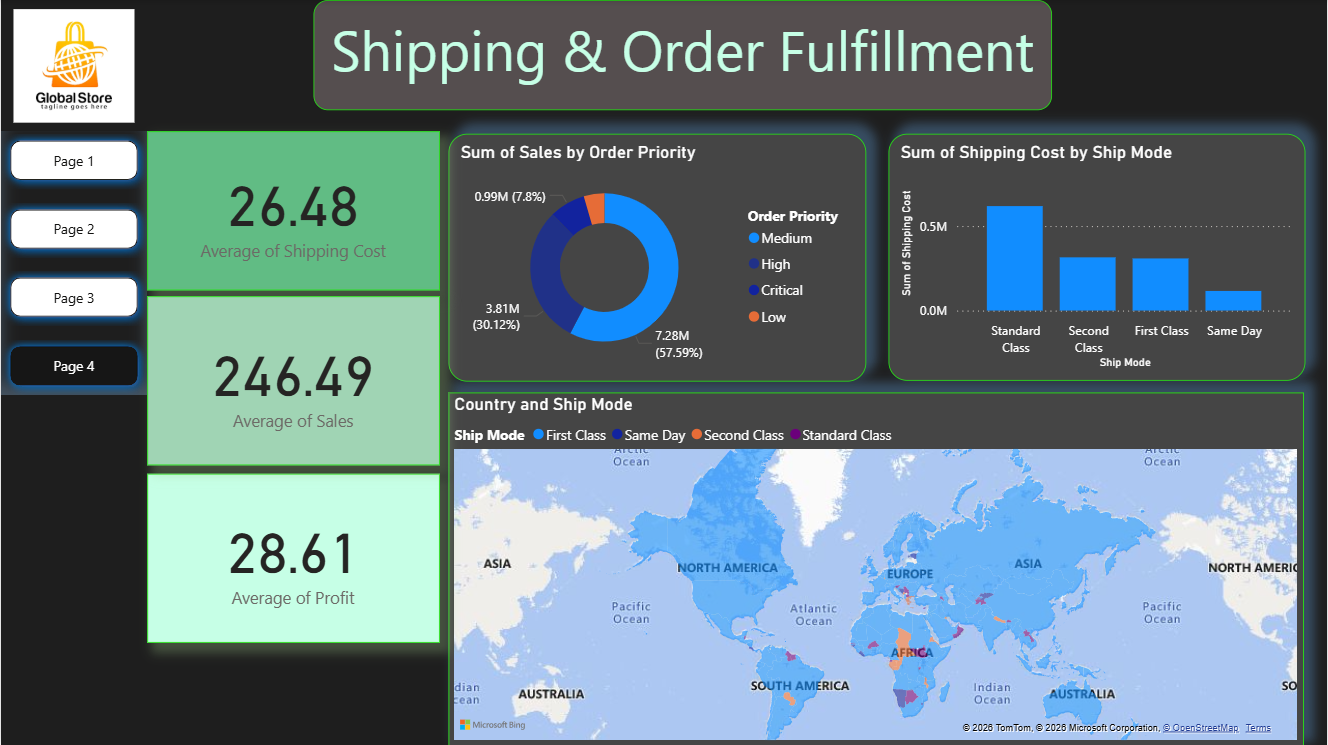

Layout of this report page (visuals, bound fields, positions):
{"tool":"powerbi","page":{"name":"Page 4","canvas":[1280,720],"ordinal":3},"visuals":[{"type":"textbox","box":[302,0,712.9,106.4],"z":0},{"type":"filledMap","fields":{"Category":["Orders.Country"],"Series":["Orders.Ship Mode"]},"box":[431.9,378.8,825.2,341.4],"z":1000},{"type":"columnChart","fields":{"Category":["Orders.Ship Mode"],"Y":["Sum(Orders.Shipping Cost)"]},"box":[856,129.6,402.3,238.5],"z":2000},{"type":"donutChart","fields":{"Y":["Sum(Orders.Sales)"],"Category":["Orders.Order Priority"]},"box":[431.9,129.1,403,238.9],"z":3000},{"type":"card","fields":{"Values":["Avg(Orders.Shipping Cost)"]},"box":[141.2,126.7,282.3,153.2],"z":4000,"group":"g1"},{"type":"card","fields":{"Values":["Avg(Orders.Profit)"]},"box":[141.2,457.2,282.3,162.9],"z":4000},{"type":"pageNavigator","box":[0,126.7,141.2,254.6],"z":5000},{"type":"card","fields":{"Values":["Avg(Orders.Sales)"]},"box":[141.2,286,282.3,162.9],"z":5000,"group":"g1"},{"type":"group","id":"g1","title":"Group 1","box":[141.2,126.7,282.3,322.1],"z":6000},{"type":"image","box":[7.2,0,126.7,126.7],"z":7000}]}

Visuals, with their boxes in screenshot pixels (x1, y1, x2, y2), scaled from the page's 1280x720 canvas onto the 1328x745 screenshot:
textbox: detection(313, 0, 1053, 110)
filledMap - Orders.Country x Orders.Ship Mode: detection(448, 392, 1304, 744)
columnChart - Orders.Ship Mode x Sum(Orders.Shipping Cost): detection(888, 134, 1305, 381)
donutChart - Sum(Orders.Sales) x Orders.Order Priority: detection(448, 134, 866, 381)
card - Avg(Orders.Shipping Cost): detection(146, 131, 439, 290)
card - Avg(Orders.Profit): detection(146, 473, 439, 642)
pageNavigator: detection(0, 131, 146, 395)
card - Avg(Orders.Sales): detection(146, 296, 439, 464)
"Group 1" group: detection(146, 131, 439, 464)
image: detection(7, 0, 139, 131)
